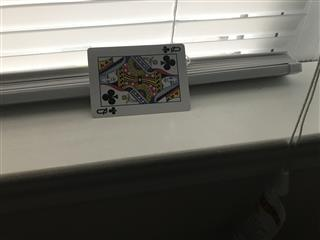QueenOfClubs: (86, 42, 190, 118)
